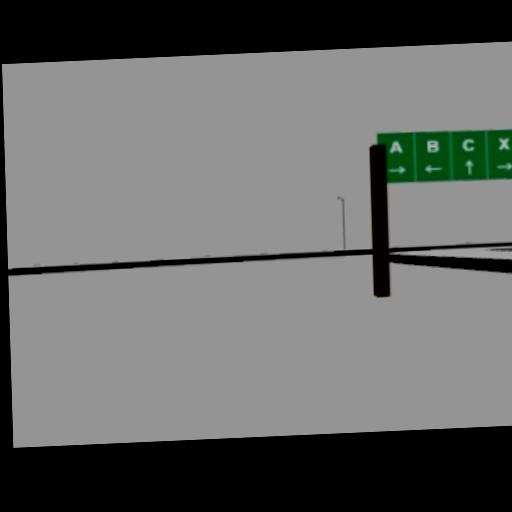A: (388, 139, 402, 152)
B: (425, 139, 439, 153)
C: (461, 138, 475, 151)
Left: (423, 163, 442, 173)
Right: (387, 164, 406, 173), (494, 161, 512, 170)
Straight: (464, 158, 473, 175)
X: (497, 136, 509, 150)
